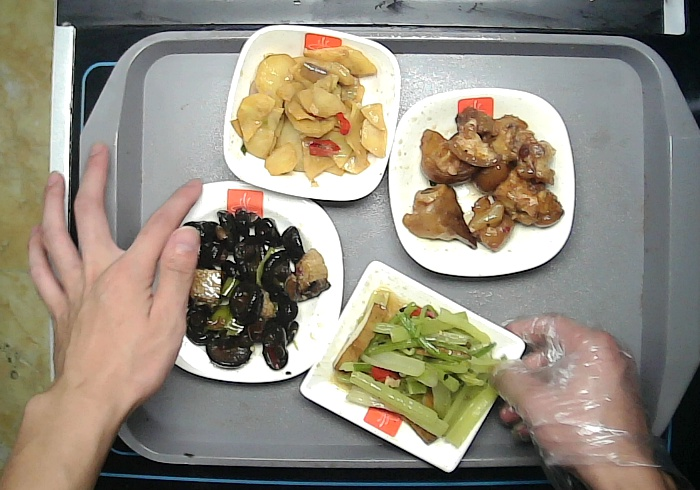SHKJ-Bai_Se_Cai_Die: (385, 85, 578, 278)
SHKJ-Bai_Se_Si_Fang_Cai_Die: (145, 179, 346, 385)
SHKJ-Bai_Se_Xiao_Fang_Die: (221, 24, 404, 203)
SHKJ-Si_Fang_Min: (298, 258, 528, 473)
